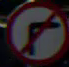Don't turn right: (8, 7, 66, 55)
